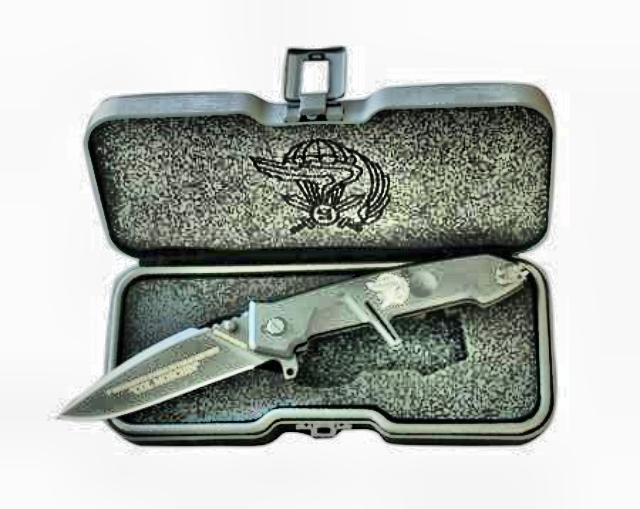knife: (46, 298, 306, 422)
